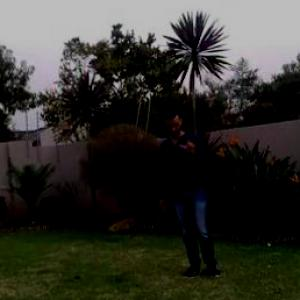land_hand: (179, 127, 201, 157)
